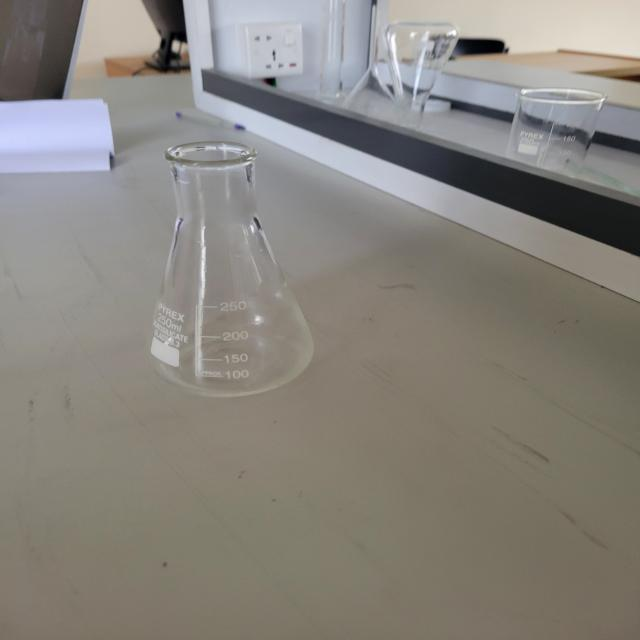Conical_Flask: (106, 108, 343, 412)
